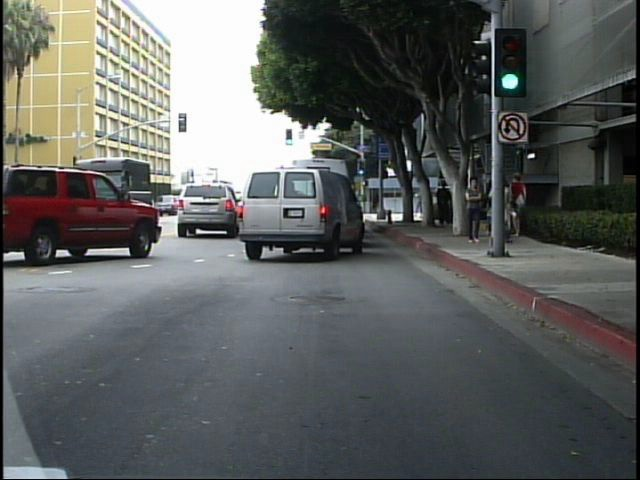person: (495, 172, 519, 253), (514, 171, 536, 243), (467, 175, 487, 245), (432, 175, 454, 230), (412, 185, 424, 217)
